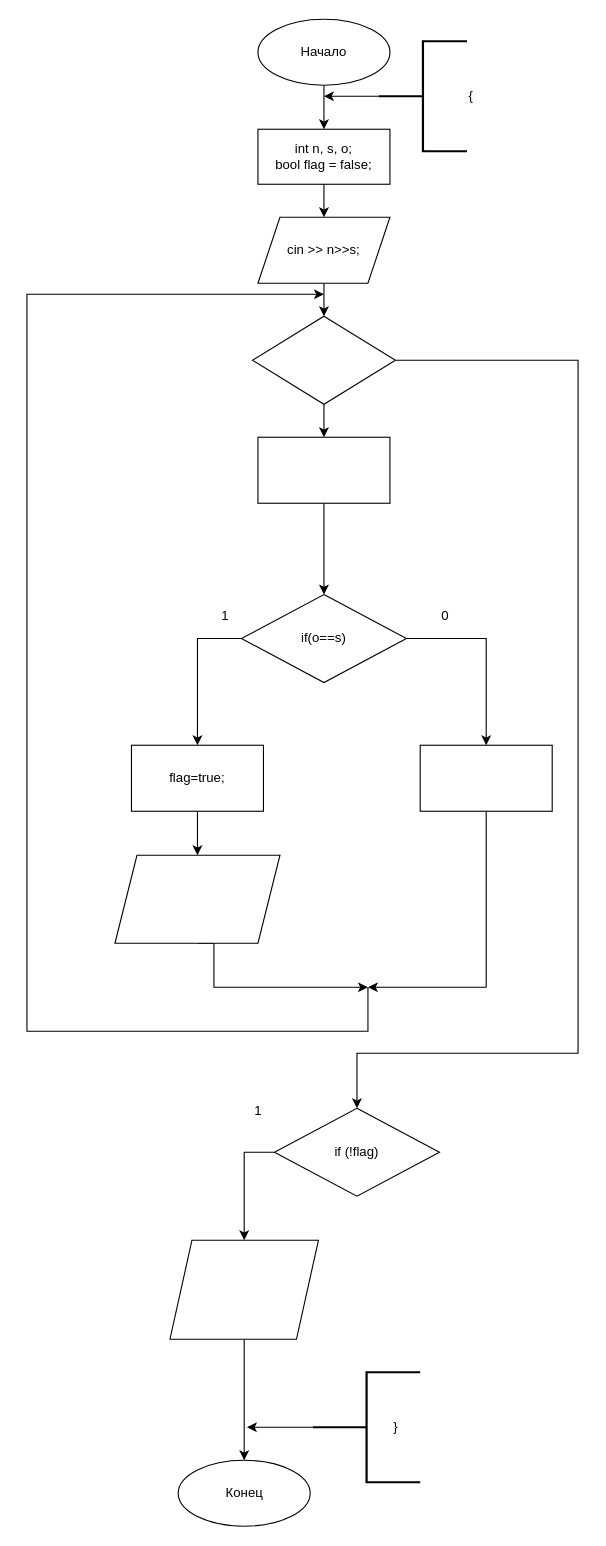
Image size: 606x1546. Some labels were removed from this diagram. Here are the shapes that lost their labels. From the top down, the centre of each, then its label:
(323,359): while (n>0 && !flag)
(323,469): o=n%10;
(485,777): n/=10;
(197,898): cout<<"Цифра найдена!" << endl;
(243,1289): cout << "Цифра не найдена" << endl;
